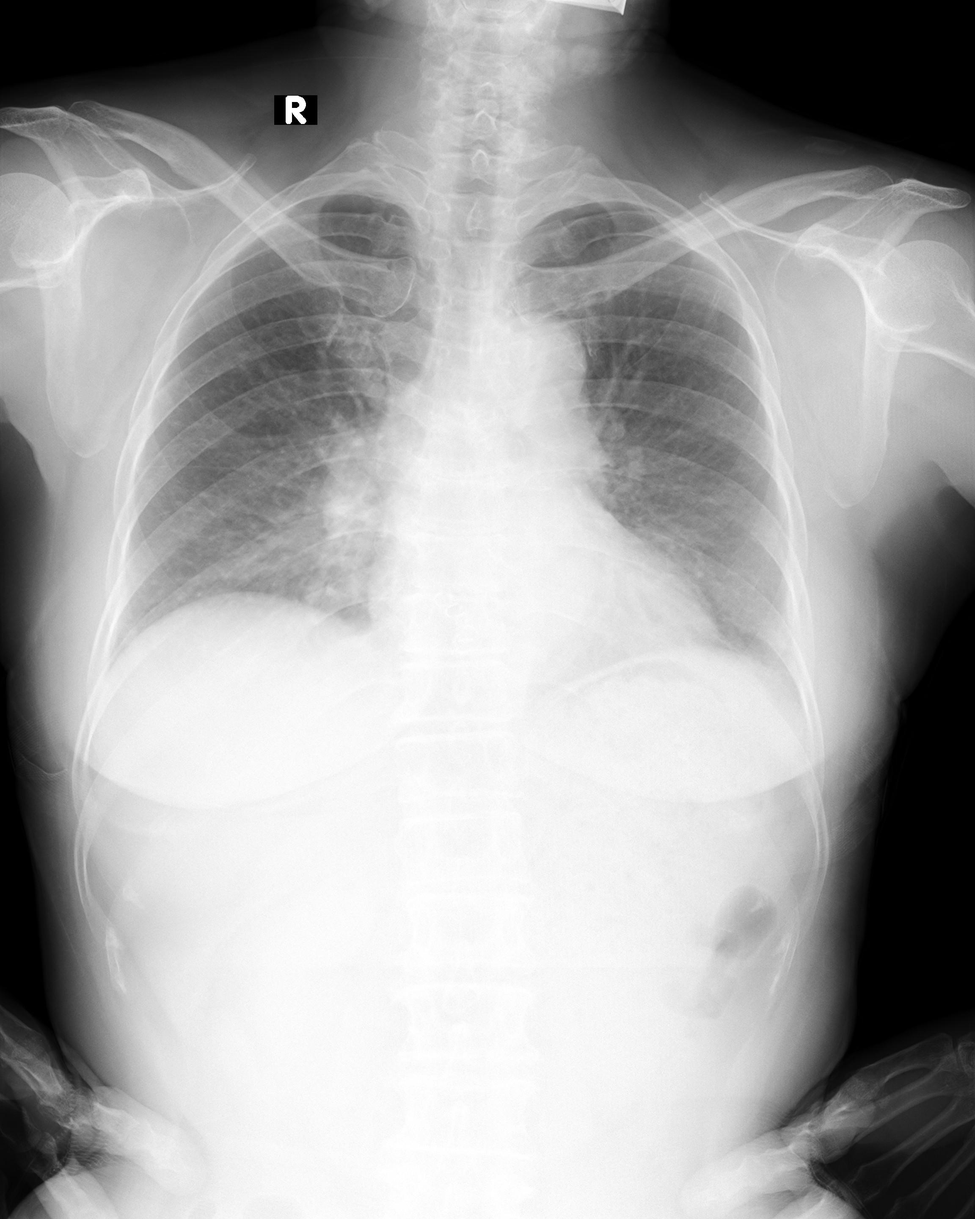Aortic enlargement: (472, 310, 588, 422)
Cardiomegaly: (367, 560, 721, 672)
